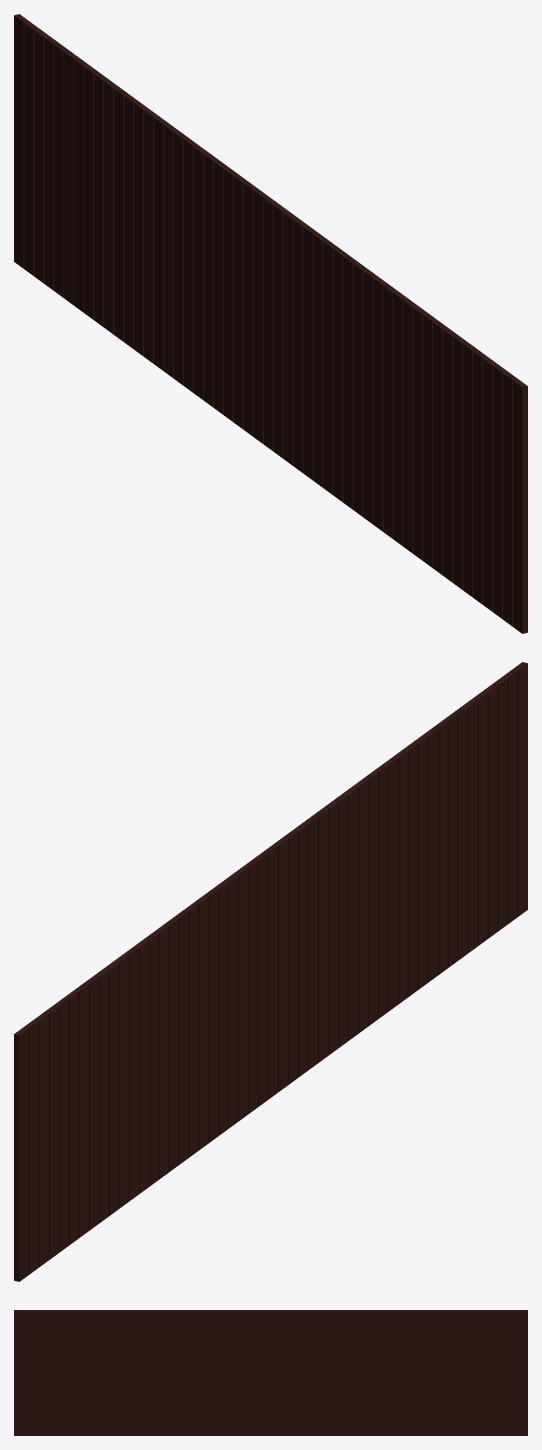
Rendered from newwalll.fbx.
The picture shows the model from 3 angles, top to bottom: view 1: azimuth 30°, elevation 25°; view 2: azimuth 150°, elevation 25°; view 3: azimuth 270°, elevation 25°; orthographic projection. The views are drawn at different scales.
Parts seen in each view (by area): view 1: Cube; view 2: Cube; view 3: Cube.
Part boxes in pixels (x1=…): Cube: x1=14, y1=14, x2=527, y2=633; Cube: x1=14, y1=662, x2=527, y2=1281; Cube: x1=14, y1=1310, x2=527, y2=1435.
Size of the model in its own units: 19.35 by 828 by 3097.
